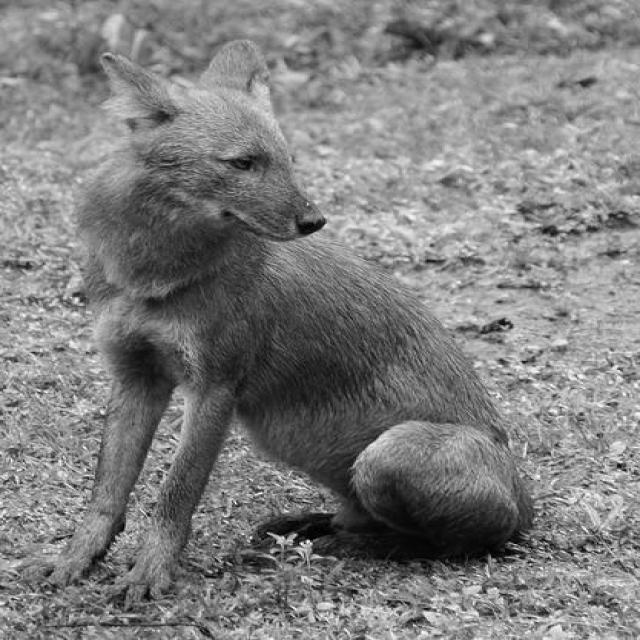sitting: (12, 36, 545, 614)
